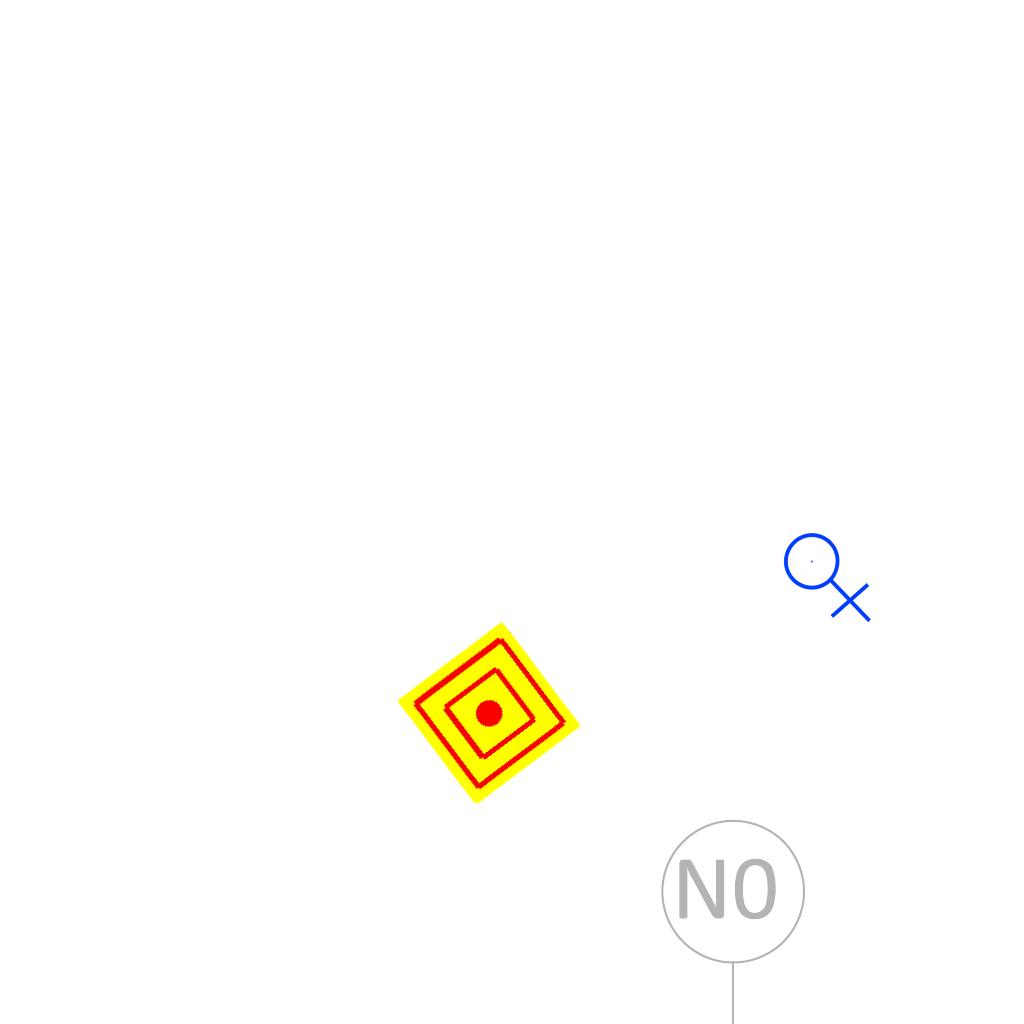Elektroanschluss_allgemein_230V_Geraeteanschlussdose_230V: (782, 524, 876, 623)
NAM-Nichtautomatischer_Melder: (396, 620, 582, 806)
